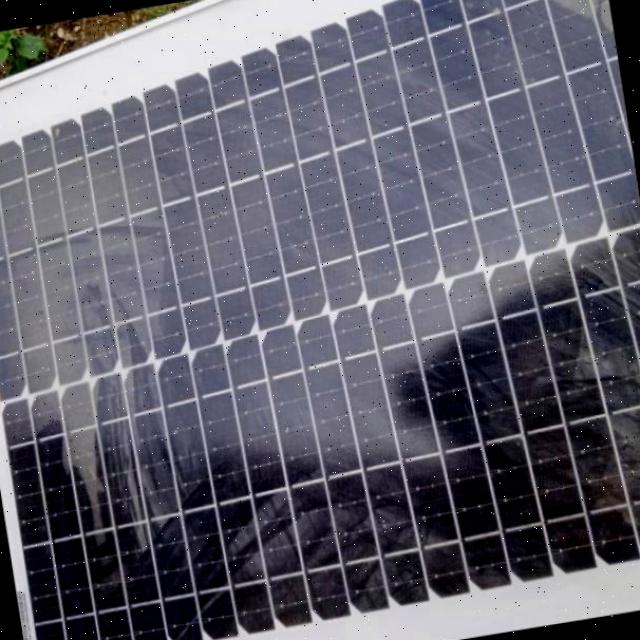Surface Contaminant: (0, 51, 400, 530)
